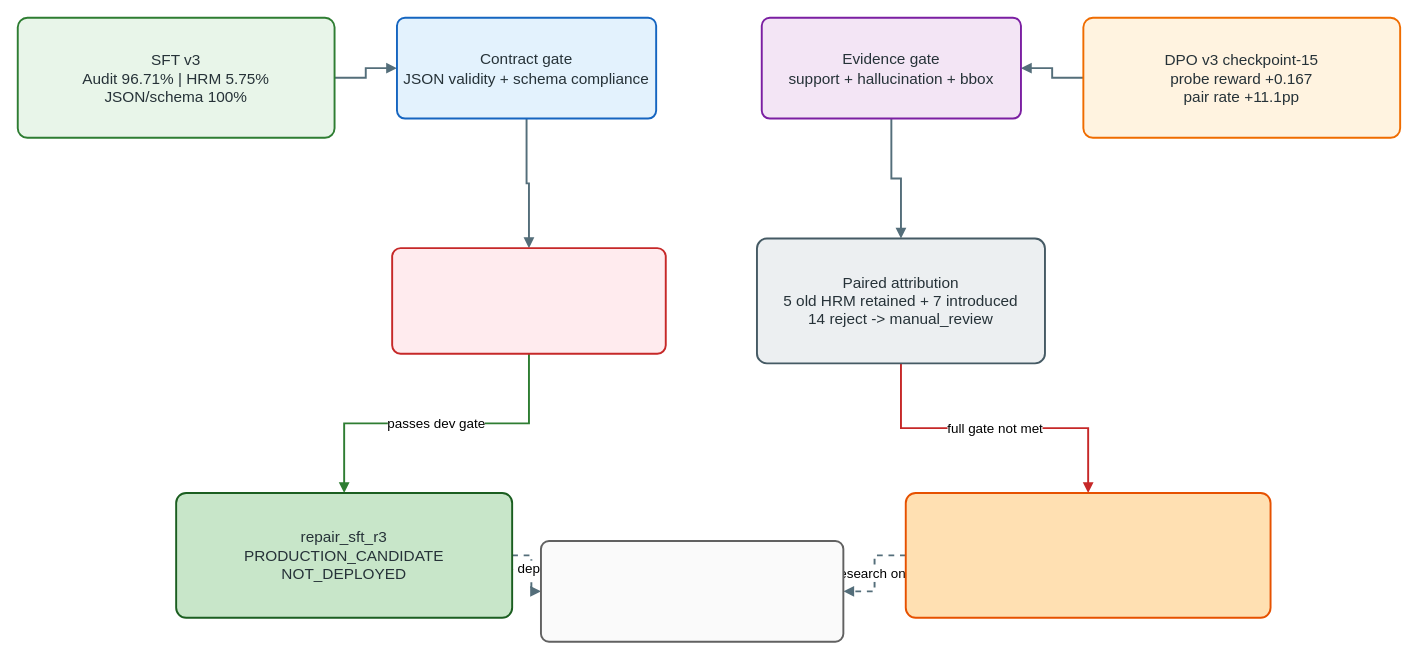
The diagram is 1417 pixels wide and 659 high, and some of its shapes have lost their labels. Here are the shapes that lost their labels. From the top down, the centre of each, then its label:
[528,300]: Business gate Audit accuracy + High-risk Miss
[1087,555]: DPO checkpoint-15 ALIGNMENT_RESEARCH_CANDIDATE deployment_eligible=false
[692,591]: Final holdout not run No production deployment claim
